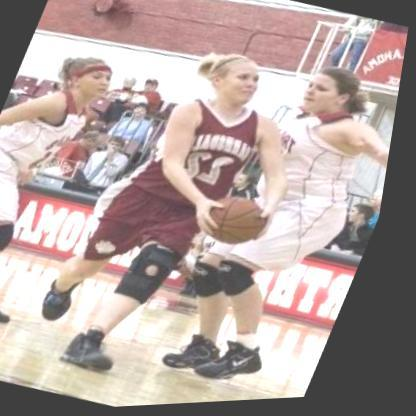basketball: (198, 185, 287, 259)
